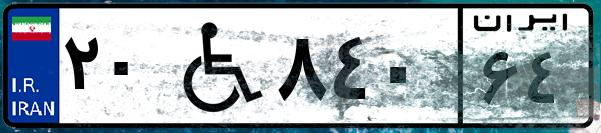0: (385, 28, 445, 110), (110, 28, 158, 98)
2: (57, 26, 110, 100)
4: (330, 28, 385, 110), (525, 38, 570, 115)
6: (475, 38, 525, 113)
8: (270, 28, 330, 110)
ژ (معلولین و جانبازان): (158, 12, 270, 120)
